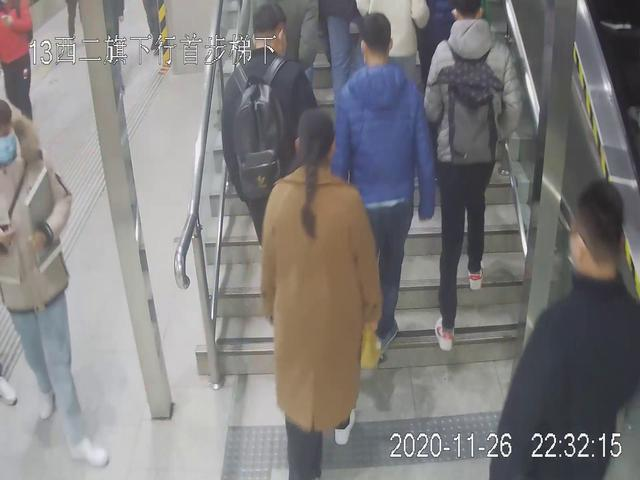person: (258, 104, 383, 480), (487, 179, 640, 480), (1, 98, 115, 474), (326, 9, 438, 363), (422, 1, 525, 353), (221, 1, 321, 297)
